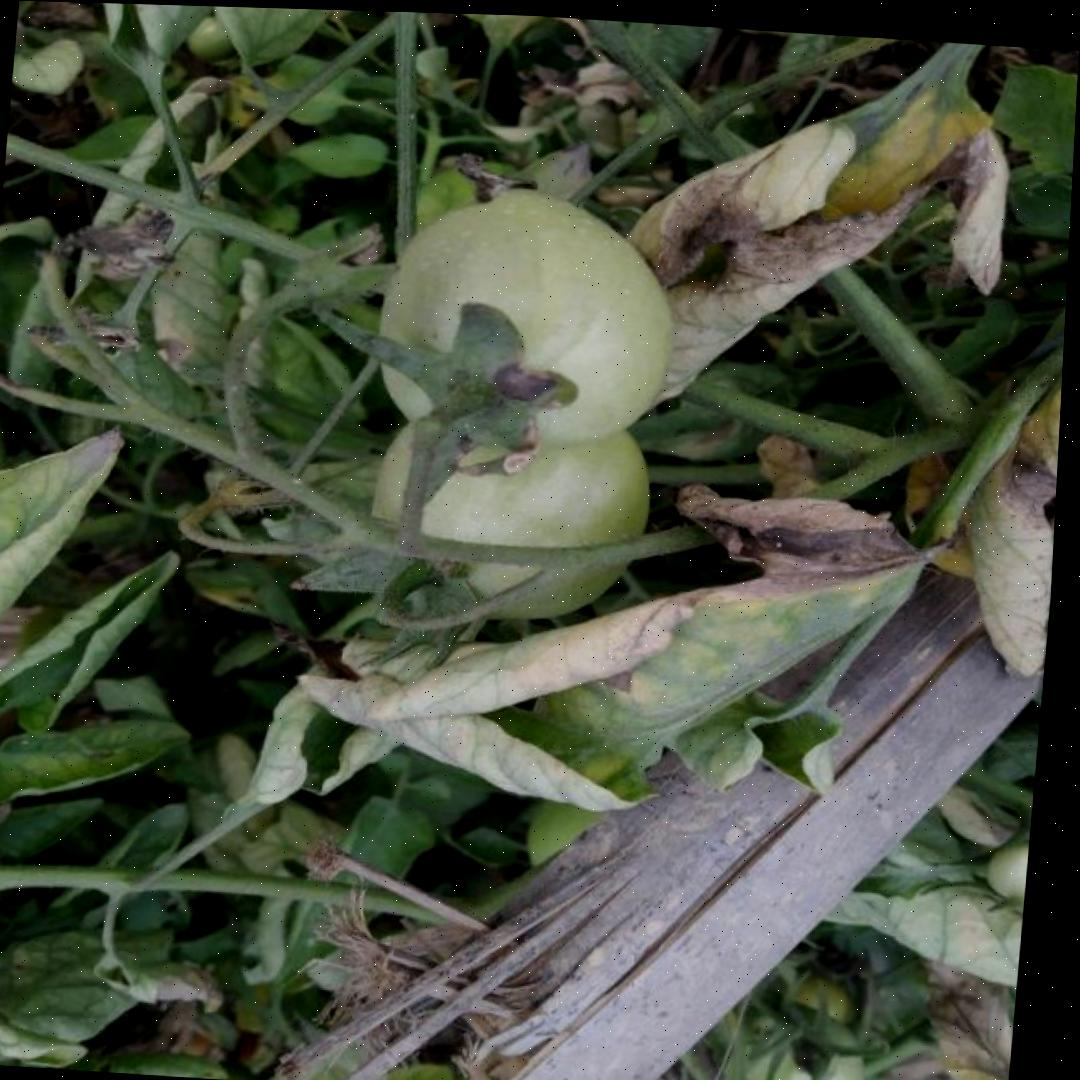mentah: (365, 184, 683, 459), (357, 384, 649, 629)
